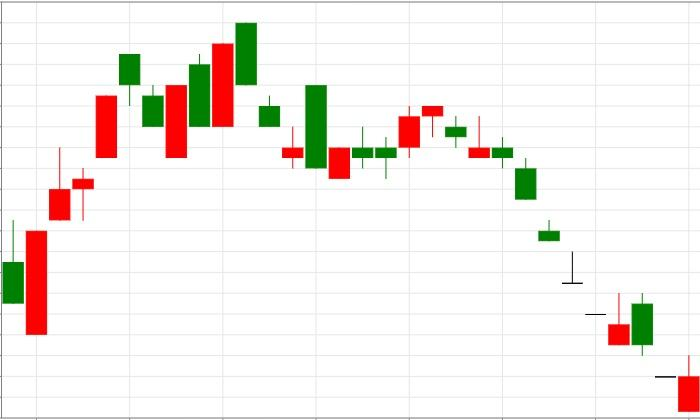bullish_engulfing_rise: (422, 105, 654, 356), (235, 22, 327, 169)
